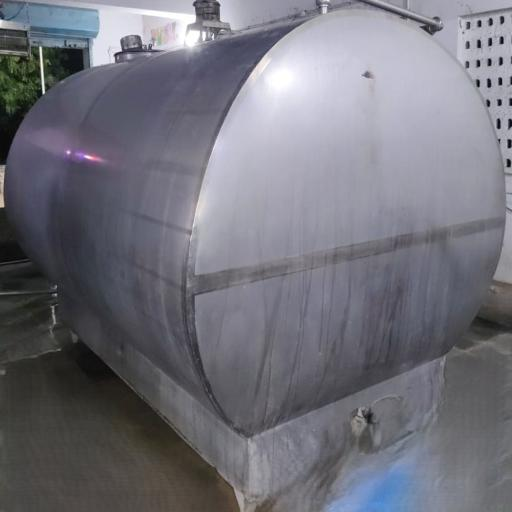silo: (2, 7, 509, 502)
